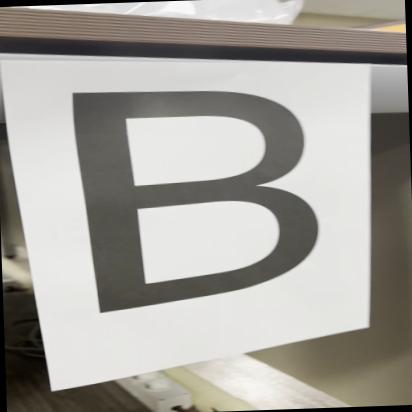seat: (35, 66, 346, 328)
